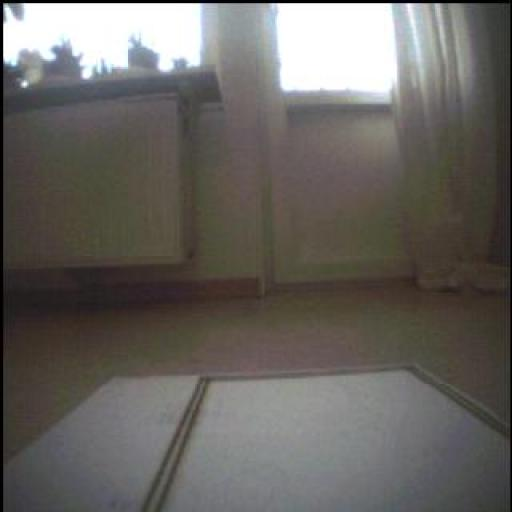Pad: (25, 362, 511, 495)
